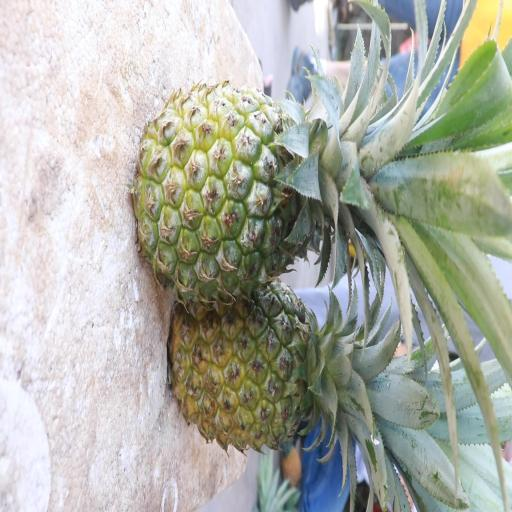------------------------------: (138, 72, 348, 296)
Pineapple - v8 v1: (172, 284, 371, 453)
